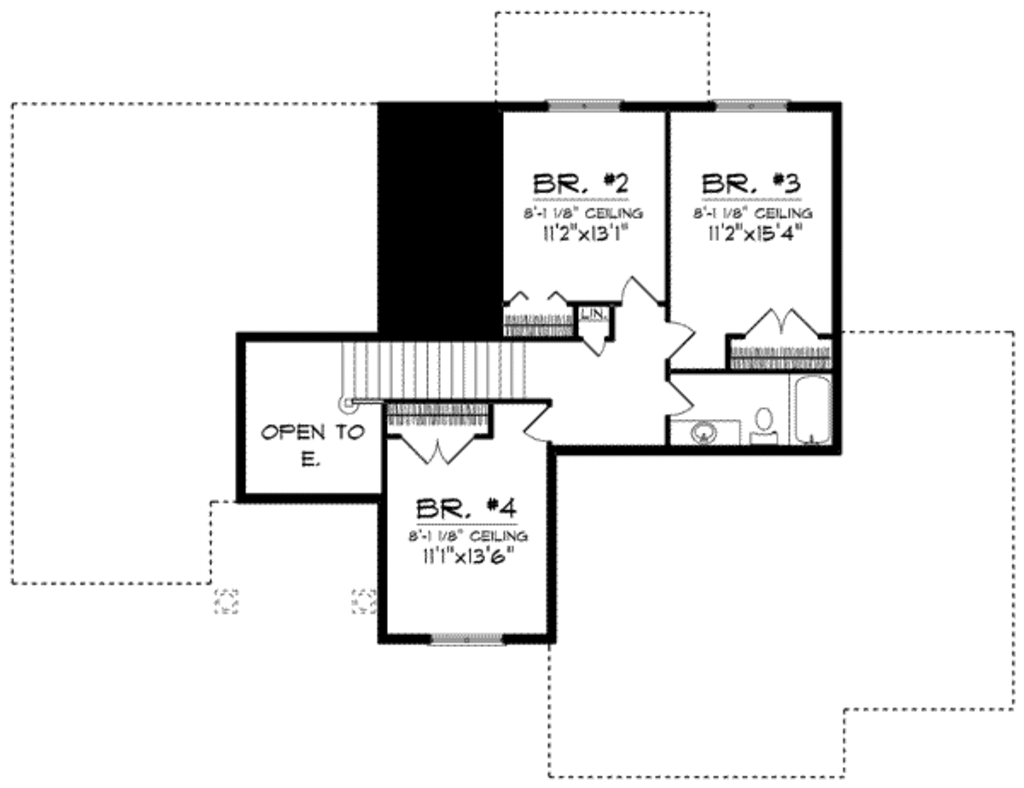door: (744, 305, 823, 349), (397, 428, 474, 468), (610, 277, 671, 307), (658, 316, 696, 364), (657, 379, 694, 416), (521, 405, 553, 444), (580, 332, 608, 361)
large_sink: (747, 403, 783, 451)
small_sink: (666, 421, 743, 451)
stairs: (336, 336, 531, 413)
tub: (787, 371, 834, 446)
windows: (541, 96, 625, 121), (709, 96, 796, 120), (422, 627, 505, 651)
